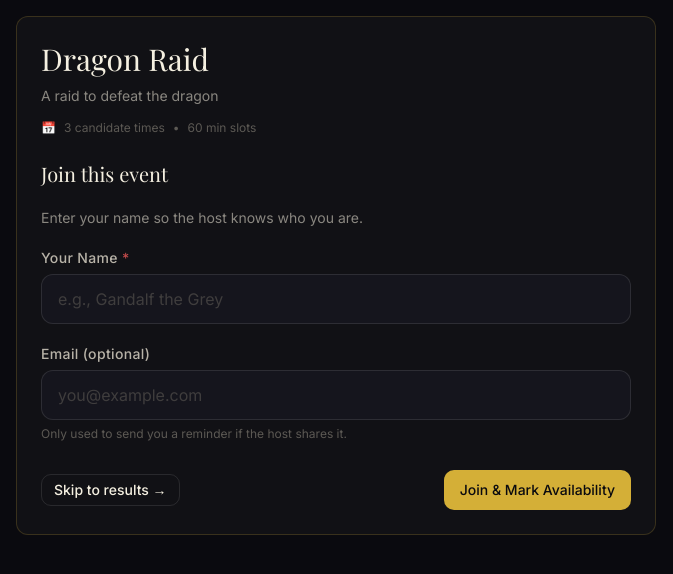
PublicEventPage › join step renders and validates empty name
Expected: the heading "Join this event" is shown, [41,160,168,187]
Click the button "Join & Mark Availability": (537, 490) [444,470,631,510]
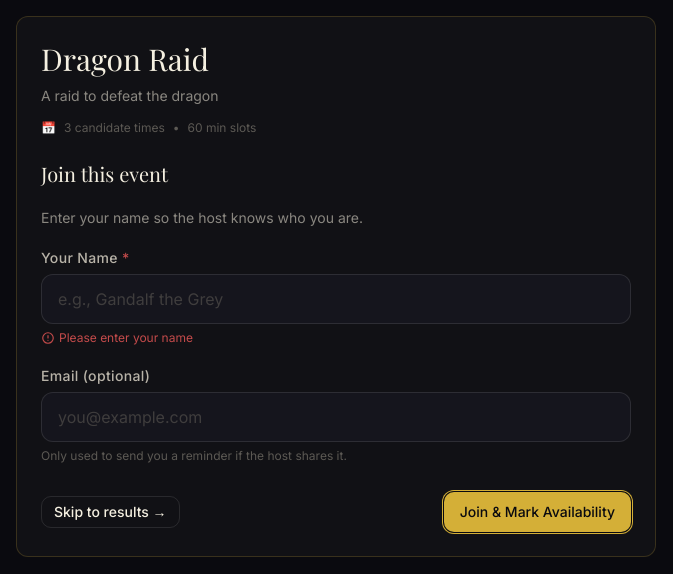
Expected: the text "Please enter your name" is shown, [41,330,193,345]
